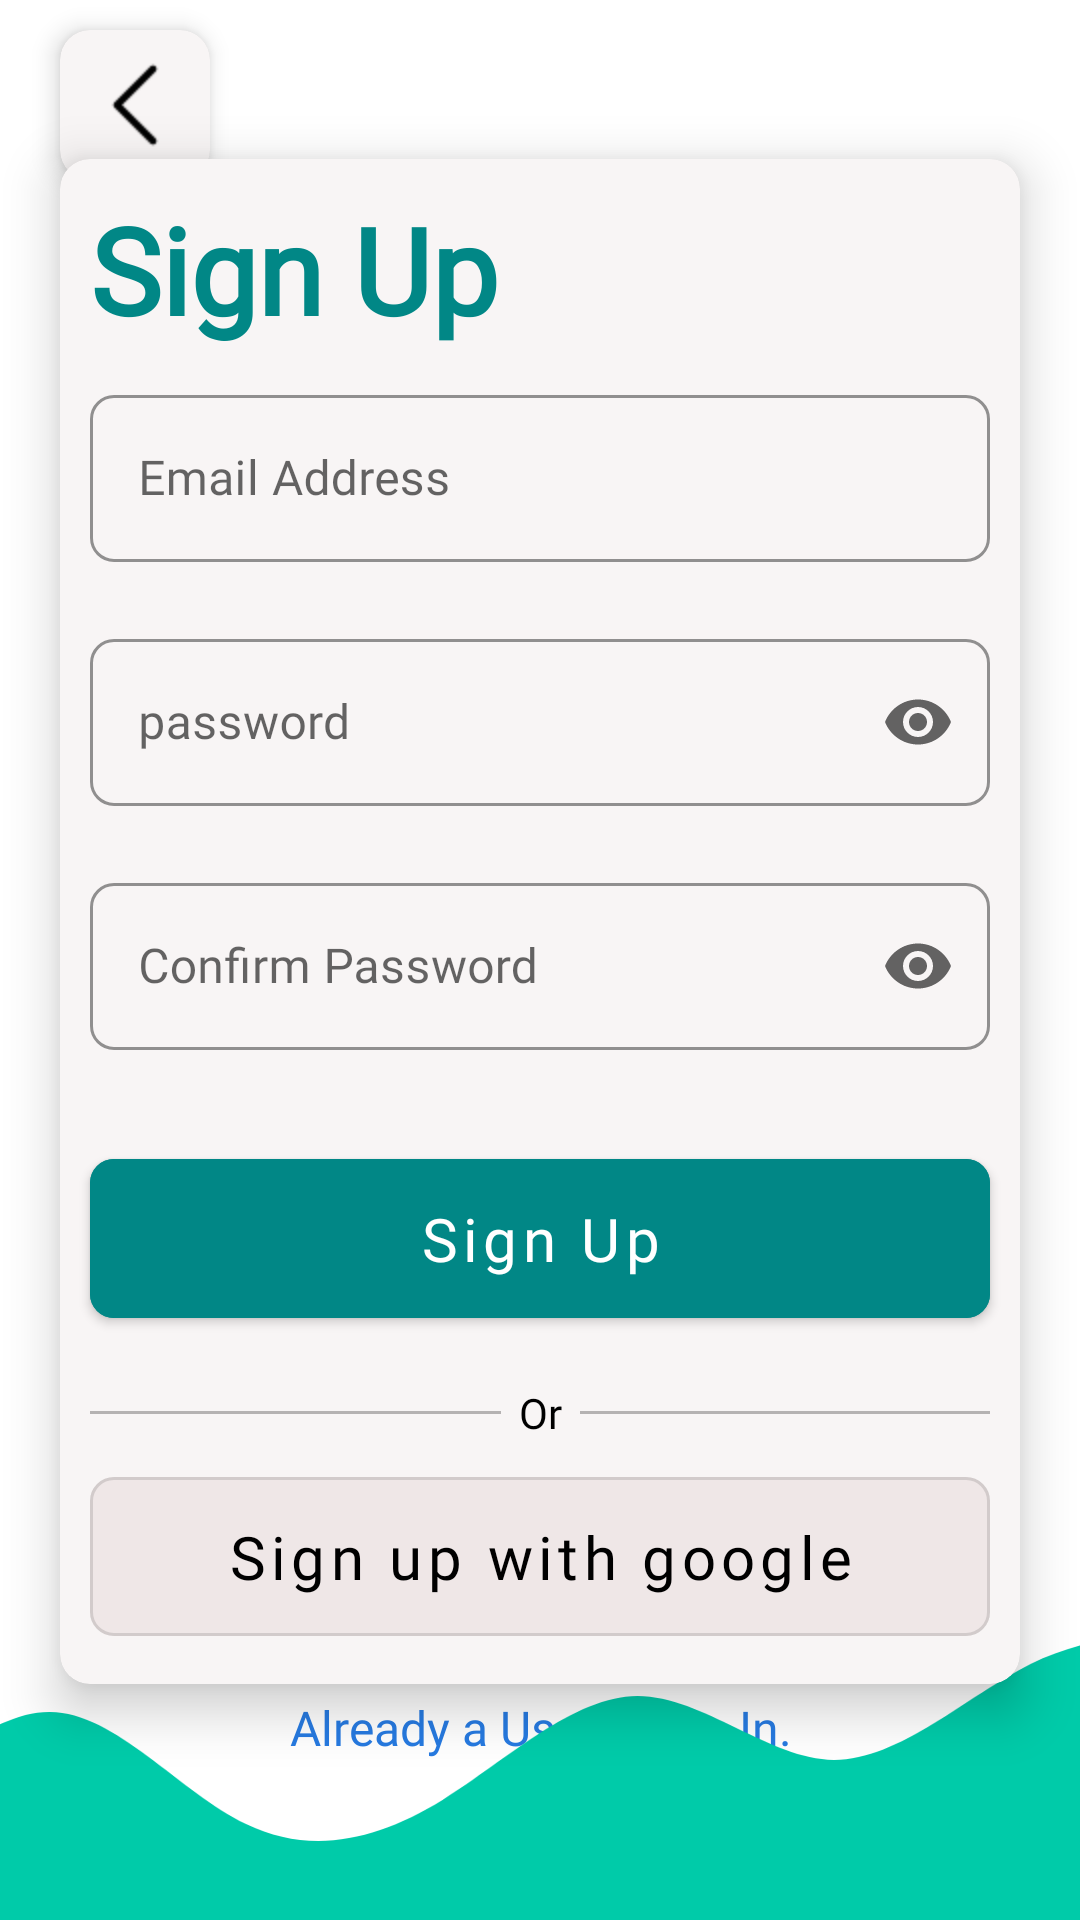

Icon bounding boxes for this 1080*1920 phone screenshot, format (x1, y1, x2, y2):
back: (60, 53, 210, 180)
